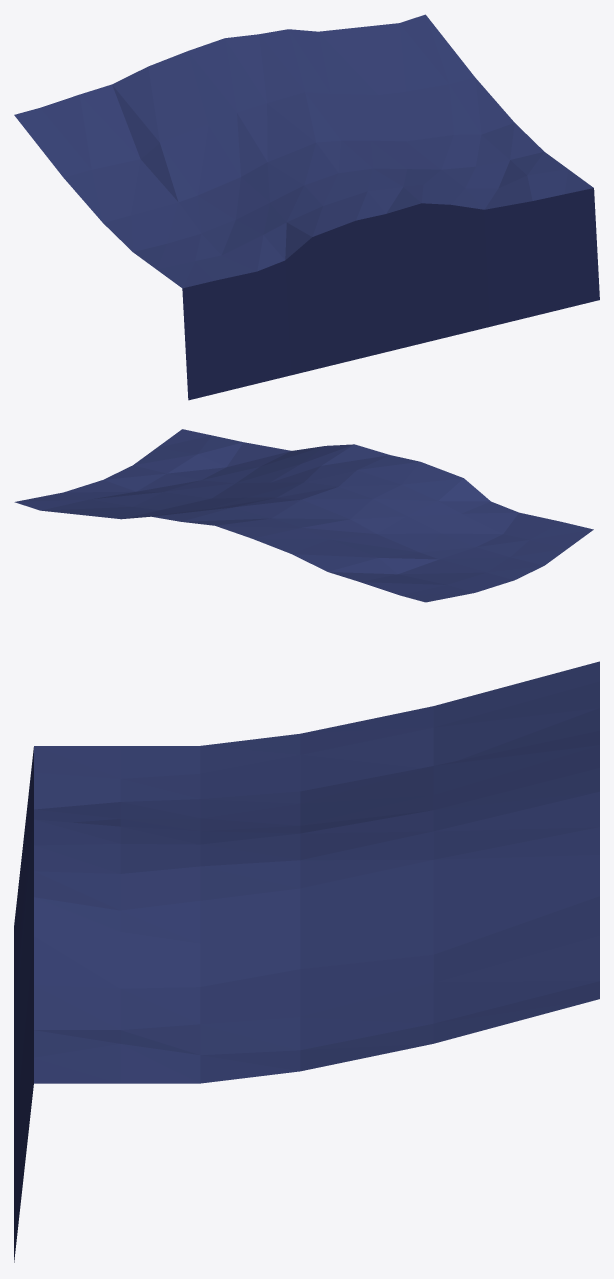
File: seabed-2.glb
3 renders of one model, top to bottom at view 1: azimuth 30°, elevation 25°; view 2: azimuth 150°, elevation 25°; view 3: azimuth 270°, elevation 25°, orthographic. The views are drawn at different scales.
Parts seen in each view (by area): view 1: seabed-2; view 2: seabed-2; view 3: seabed-2.
Part boxes in pixels (x1,y1,x2,y2): seabed-2: (14,14,599,400); seabed-2: (14,429,593,602); seabed-2: (14,661,599,1262).
Size of the model in its own units: 12 by 5.1 by 8.8.
